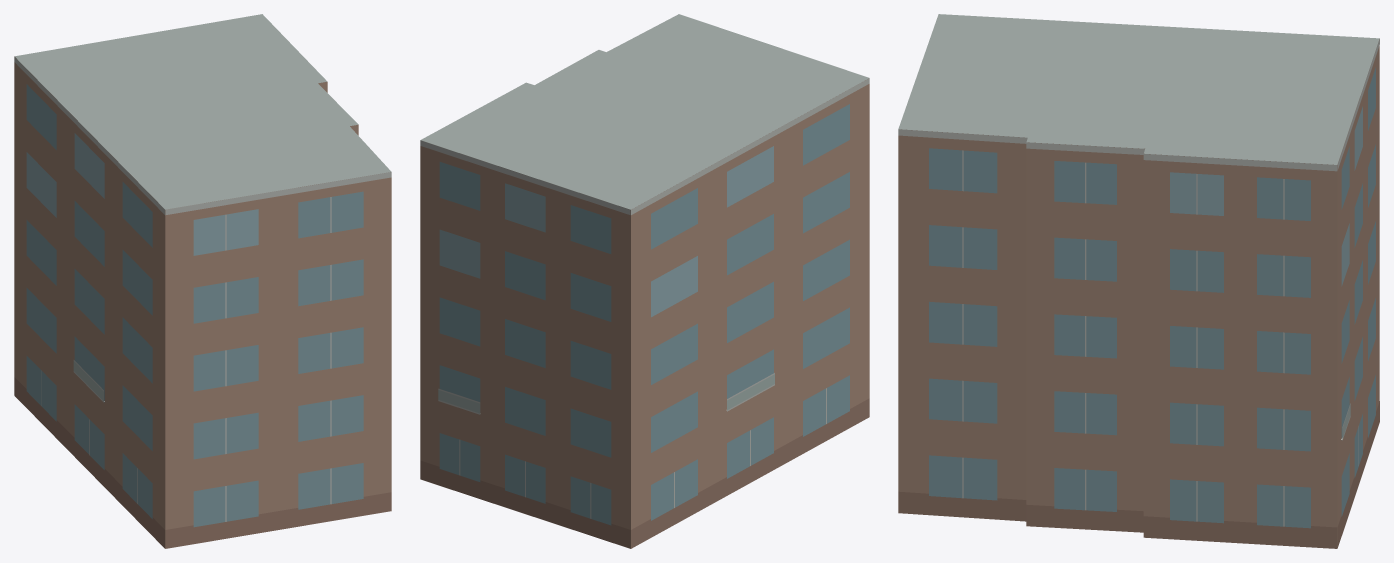
File: survey-upis-33023775.glb
3 renders of one model, left to right at view 1: azimuth 30°, elevation 25°; view 2: azimuth 150°, elevation 25°; view 3: azimuth 270°, elevation 25°, orthographic. The views are drawn at different scales.
Visible parts, largest first — view 1: survey-upis-33023775.tmp; view 2: survey-upis-33023775.tmp; view 3: survey-upis-33023775.tmp.
Boxes of the visible parts, bbox=[...] form: survey-upis-33023775.tmp: bbox=[14, 14, 391, 548]; survey-upis-33023775.tmp: bbox=[420, 14, 869, 548]; survey-upis-33023775.tmp: bbox=[898, 14, 1379, 548].
Bounding box in the file's own units: 12.49 × 14.8 × 16.83.
